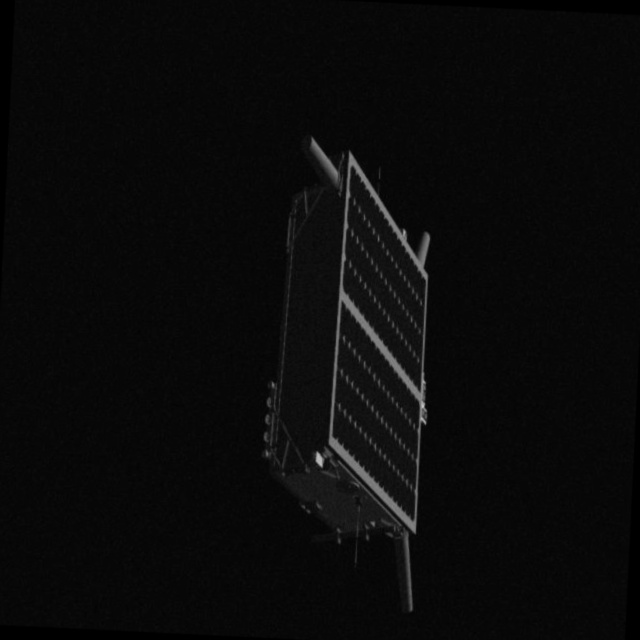satellite: (254, 128, 467, 620)
